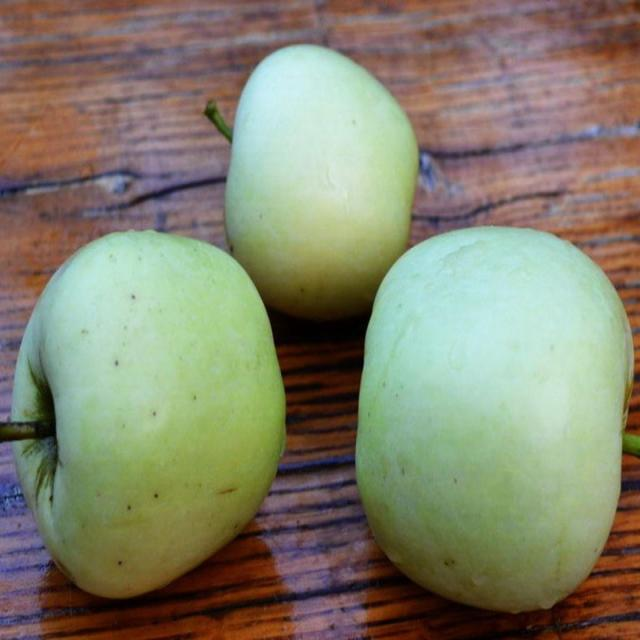Fresh Apple: (353, 235, 640, 618), (30, 246, 298, 592), (217, 52, 433, 323)
